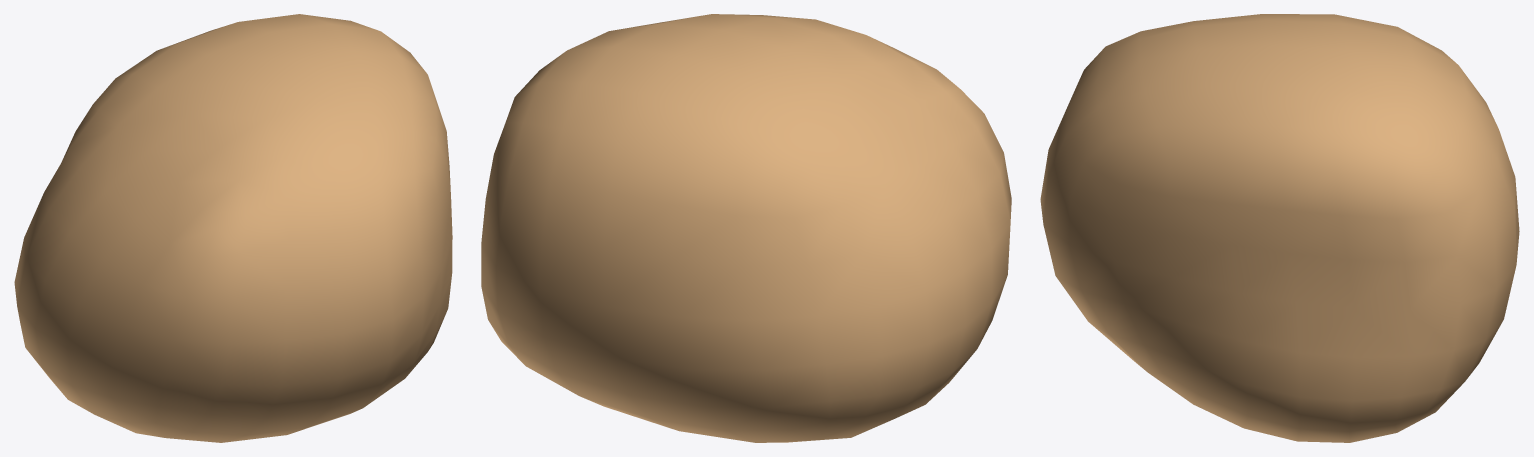
File: Potato_03.dae
3 renders of one model, left to right at view 1: azimuth 30°, elevation 25°; view 2: azimuth 150°, elevation 25°; view 3: azimuth 270°, elevation 25°, orthographic. The views are drawn at different scales.
Parts seen in each view (by area): view 1: Potato_03_LOD0; view 2: Potato_03_LOD0; view 3: Potato_03_LOD0.
Boxes of the visible parts, <box> form: Potato_03_LOD0: <box>14,14,452,442</box>; Potato_03_LOD0: <box>481,14,1011,442</box>; Potato_03_LOD0: <box>1040,14,1519,442</box>.
Size of what is drawn, in the model's own units: 3.79 by 3.68 by 3.16.
